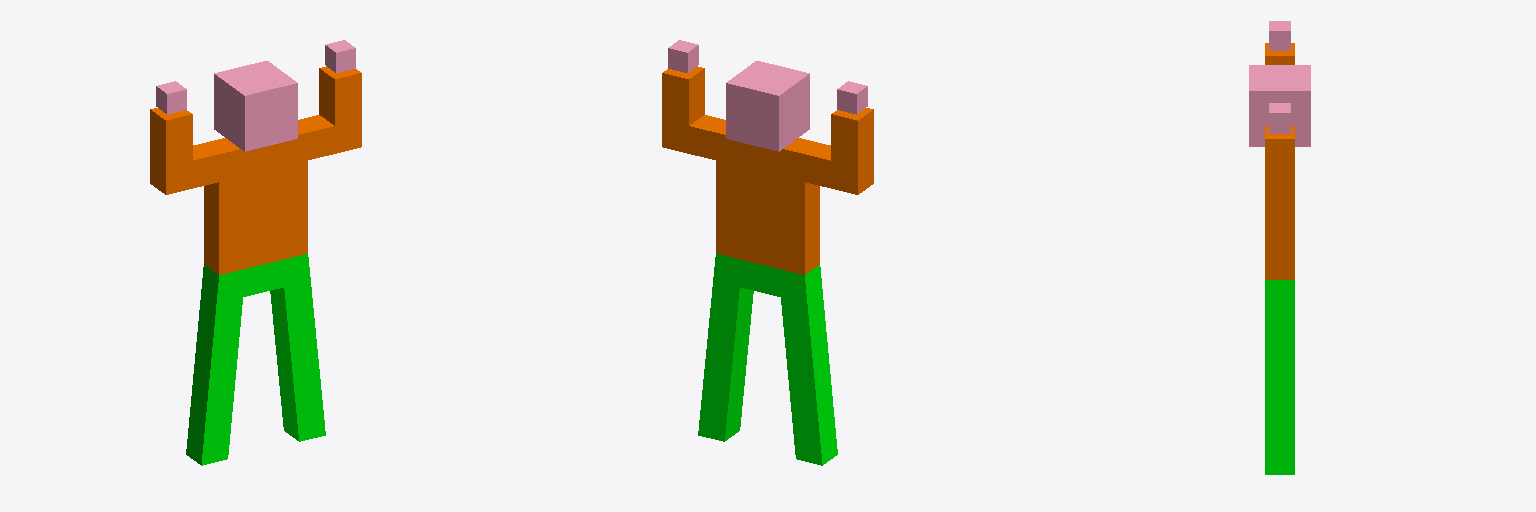
File: pose.obj
3 renders of one model, left to right at view 1: azimuth 30°, elevation 25°; view 2: azimuth 150°, elevation 25°; view 3: azimuth 270°, elevation 25°, orthographic.
Visible parts, largest first — view 1: Mesh1 Model, Mesh4 Model, Mesh2 Model, Mesh3 Model; view 2: Mesh1 Model, Mesh4 Model, Mesh2 Model, Mesh3 Model; view 3: Mesh1 Model, Mesh4 Model, Mesh2 Model, Mesh3 Model.
Boxes of the visible parts, x1,y1,x2,y2 form: Mesh1 Model: [150, 66, 361, 465]; Mesh4 Model: [214, 61, 297, 151]; Mesh2 Model: [325, 40, 355, 72]; Mesh3 Model: [156, 81, 186, 114]; Mesh1 Model: [662, 66, 873, 465]; Mesh4 Model: [726, 61, 809, 151]; Mesh2 Model: [668, 40, 698, 72]; Mesh3 Model: [837, 81, 867, 114]; Mesh1 Model: [1265, 43, 1294, 474]; Mesh4 Model: [1249, 65, 1310, 146]; Mesh2 Model: [1269, 103, 1290, 133]; Mesh3 Model: [1269, 21, 1290, 50].
Size of the model in its own units: 1.1 by 2.03 by 0.3.